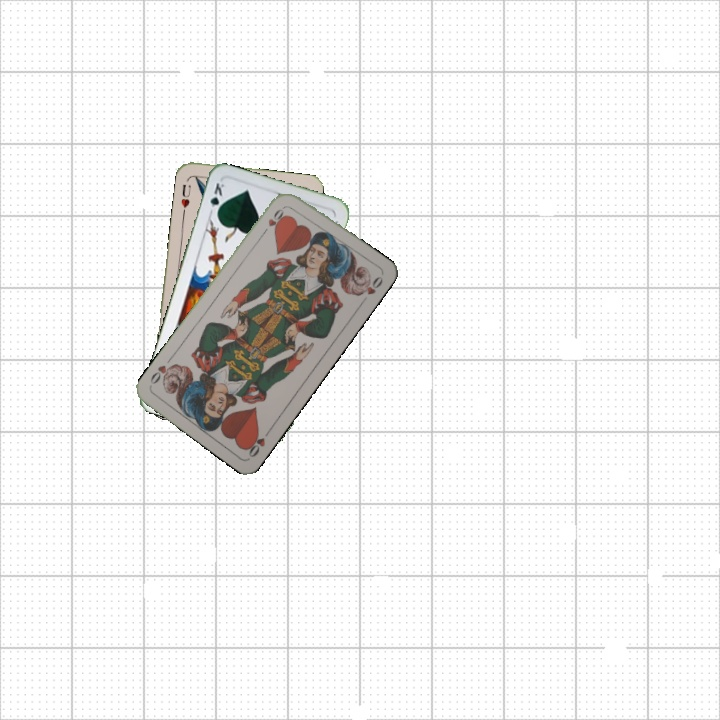GK: (206, 178, 227, 218)
HO: (242, 425, 273, 460), (259, 202, 288, 237)
HU: (177, 180, 193, 210)
